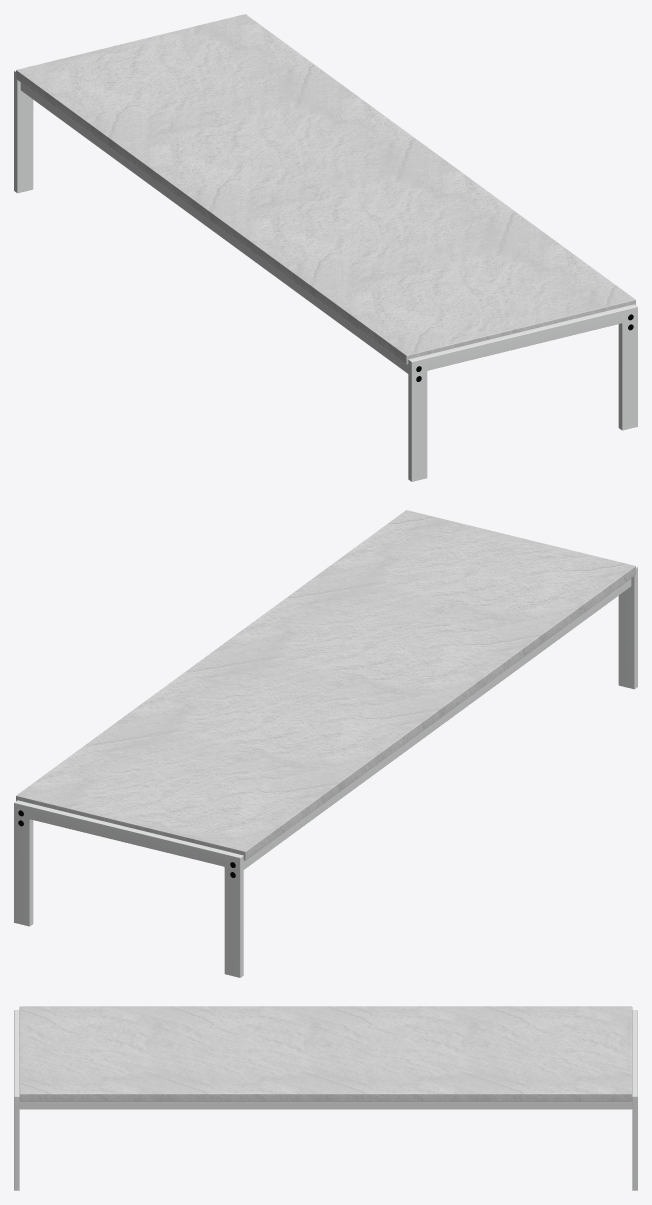
Rendered from table.glb.
3 renders of one model, top to bottom at view 1: azimuth 30°, elevation 25°; view 2: azimuth 150°, elevation 25°; view 3: azimuth 270°, elevation 25°, orthographic. The views are drawn at different scales.
Parts seen in each view (by area): view 1: X73s_05AEFA0627FD2247B4_low; view 2: X73s_05AEFA0627FD2247B4_low; view 3: X73s_05AEFA0627FD2247B4_low.
Boxes of the visible parts, <box> form: X73s_05AEFA0627FD2247B4_low: <box>14,14,637,481</box>; X73s_05AEFA0627FD2247B4_low: <box>14,510,637,977</box>; X73s_05AEFA0627FD2247B4_low: <box>14,1006,637,1190</box>.
Bounding box in the file's own units: 0.6 × 0.31 × 1.8.
1 material, 1 textured.
